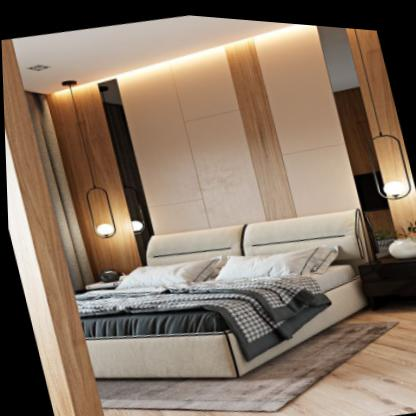Bed: (71, 200, 384, 385)
Wall Panel: (50, 19, 416, 256)
Wooden floor: (100, 289, 416, 416)
